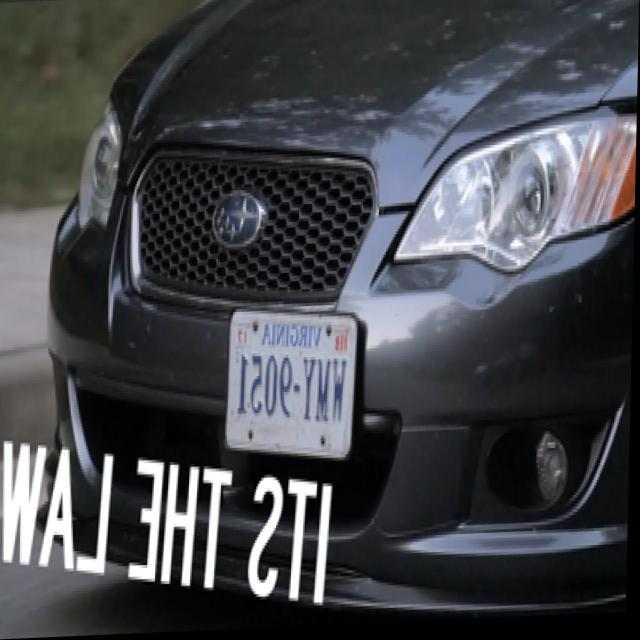licence: (230, 318, 364, 450)
